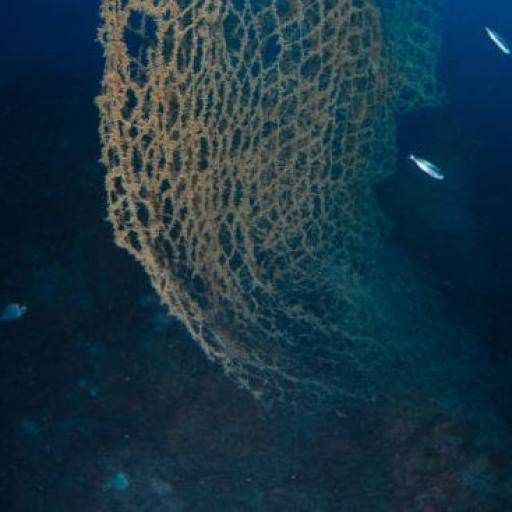net: (96, 4, 455, 450)
